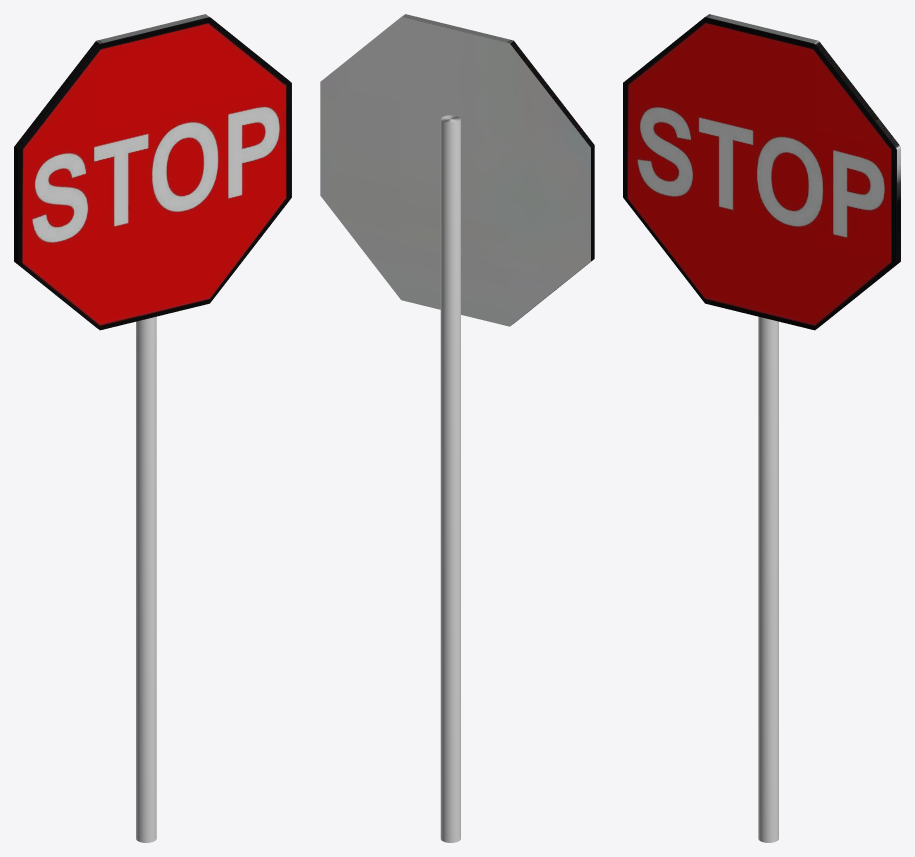
Rendered from stop-sign.fbx.
3 renders of one model, left to right at view 1: azimuth 30°, elevation 25°; view 2: azimuth 150°, elevation 25°; view 3: azimuth 330°, elevation 25°, orthographic.
Parts seen in each view (by area): view 1: Cube, Cylinder; view 2: Cube, Cylinder; view 3: Cube, Cylinder.
Boxes of the visible parts, x1=… form: Cube: x1=14, y1=14, x2=291, y2=330; Cylinder: x1=136, y1=316, x2=156, y2=842; Cube: x1=320, y1=14, x2=594, y2=326; Cylinder: x1=440, y1=115, x2=460, y2=842; Cube: x1=623, y1=14, x2=900, y2=330; Cylinder: x1=758, y1=316, x2=778, y2=842.
Size of the model in its own units: 200 by 568 by 17.6.
